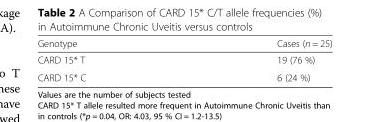table: (36, 37, 331, 82)
table column: (180, 37, 331, 82), (36, 37, 180, 82)
table column header: (36, 37, 331, 51)
table row: (36, 51, 331, 68), (36, 37, 331, 51), (36, 68, 331, 82)
